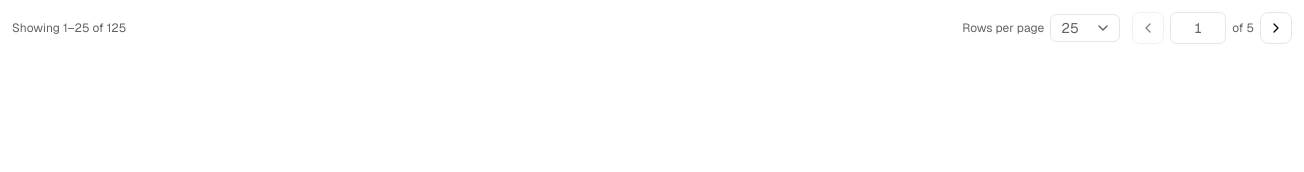
Test: PaginationControls — rows-per-page selector (Pass 12 §28/§30) › offers exactly 25/50/75/100 as options
Step 1. Click the dropdown → (1085, 28), box [1050,14,1120,42]
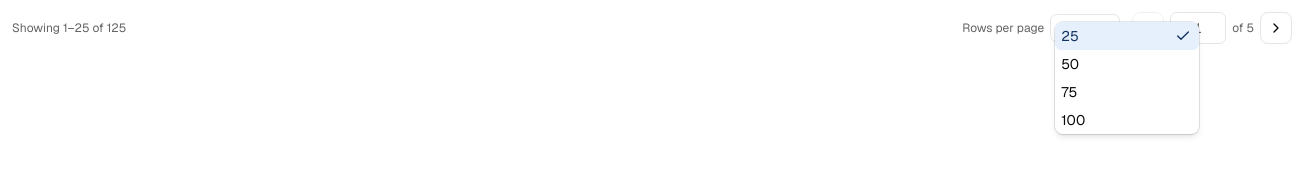
Check: the option "25" is shown, box [1055,22,1199,50]
Check: the option "50" is shown, box [1061,55,1079,73]
Check: the option "75" is shown, box [1061,83,1077,101]
